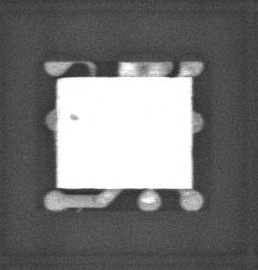DIE_INK: (66, 118, 75, 126)
